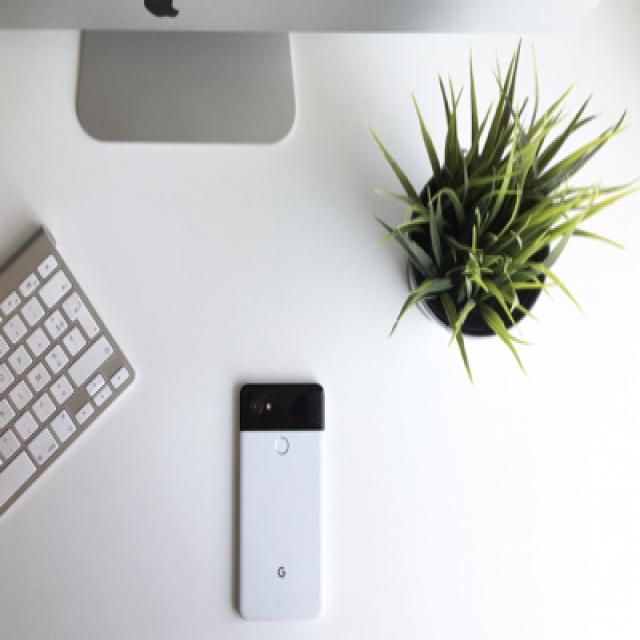cellphone: (237, 381, 323, 619)
